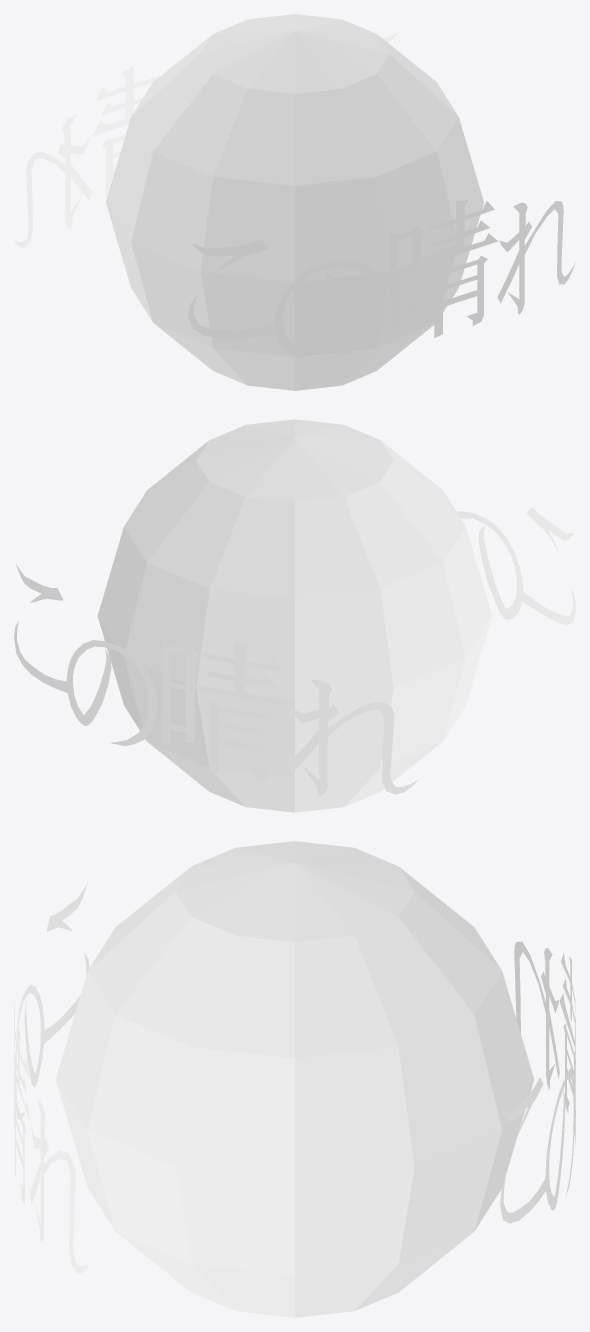
Rendered from static.ico.obj.
3 renders of one model, top to bottom at view 1: azimuth 30°, elevation 25°; view 2: azimuth 150°, elevation 25°; view 3: azimuth 270°, elevation 25°, orthographic. The views are drawn at different scales.
Size of the model in its own units: 4.65 by 3.81 by 4.47.
1 material, 1 textured.
